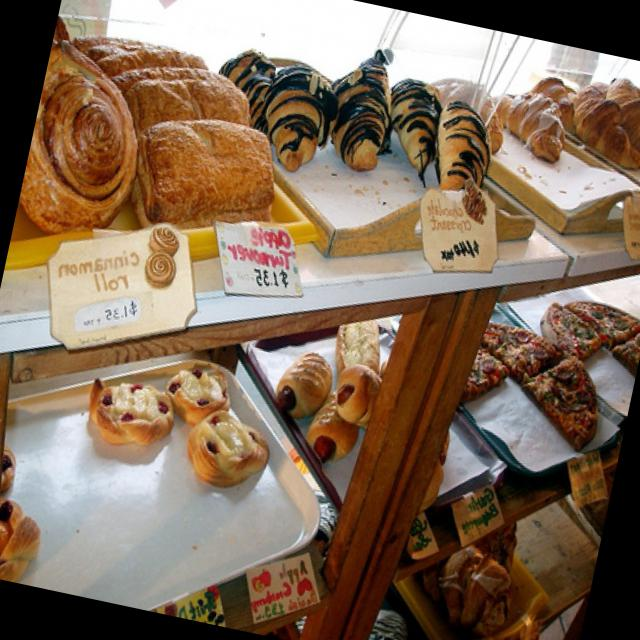bread: (275, 351, 386, 456)
bread roll: (77, 33, 274, 227), (21, 40, 139, 234)
cakes: (90, 363, 271, 488)
croissant: (443, 76, 565, 158), (533, 76, 640, 165)
croissants: (220, 47, 489, 197)
pizza: (460, 319, 600, 451), (543, 295, 640, 372)
shelves crop: (0, 151, 640, 640)
sign: (51, 224, 196, 346), (421, 187, 503, 272), (219, 224, 304, 293)
tray: (0, 358, 322, 606)
tray occluded: (237, 82, 538, 256), (419, 87, 640, 231)
wall clock: (30, 0, 640, 158)
